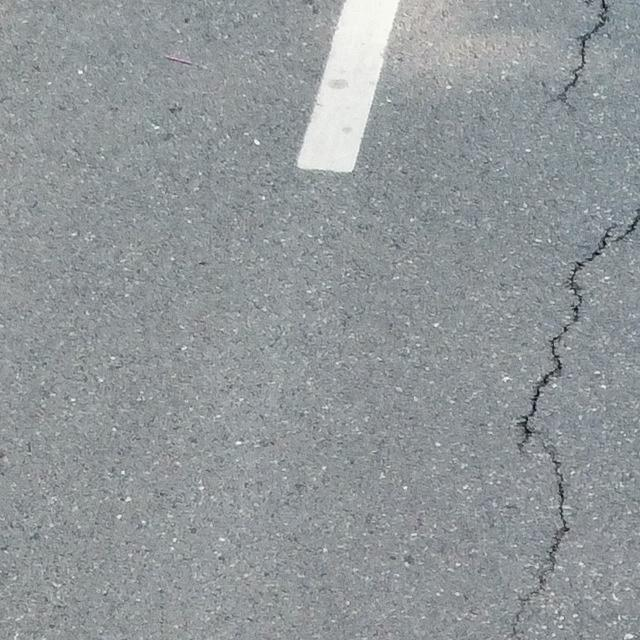LongitudinalCrack: (512, 208, 639, 640), (556, 1, 611, 111)
